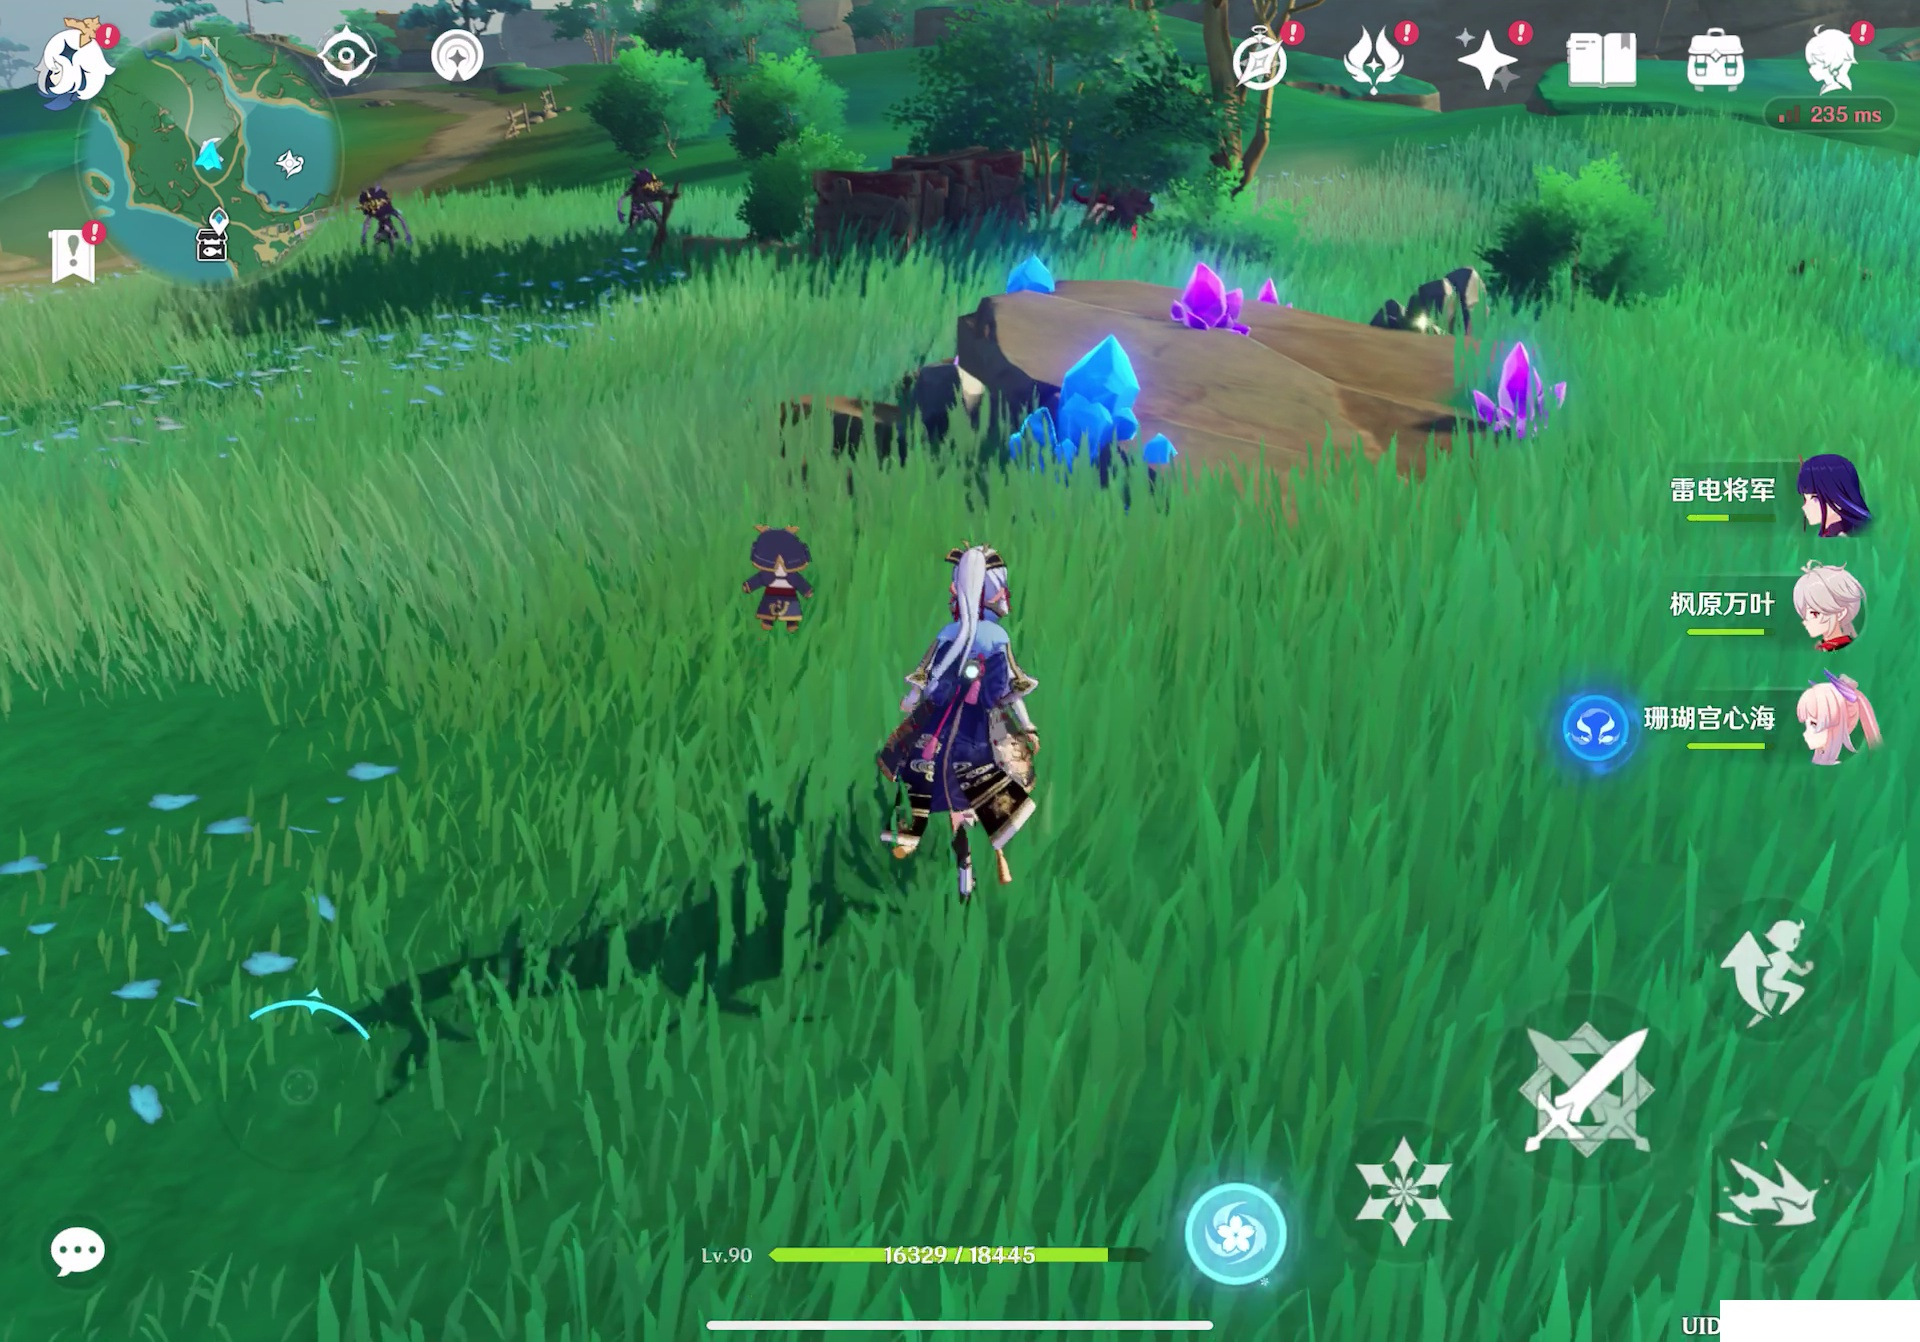丘丘人: (357, 187, 411, 271), (611, 160, 659, 255)
白铁矿石: (1374, 260, 1487, 334), (906, 365, 988, 432)
神里绫龟: (881, 532, 1052, 907)
紫矿石: (1463, 341, 1574, 448), (1161, 263, 1249, 346)
蓝矿石: (1004, 324, 1188, 493), (1008, 249, 1059, 300)
